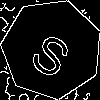S: (26, 24, 79, 81)
